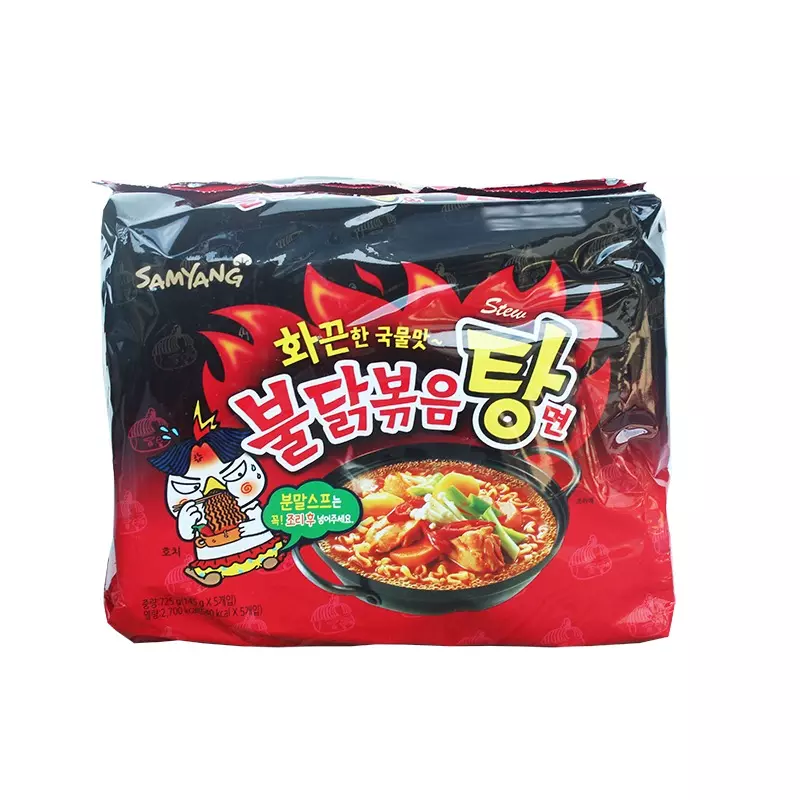Snack: (84, 160, 687, 660)
